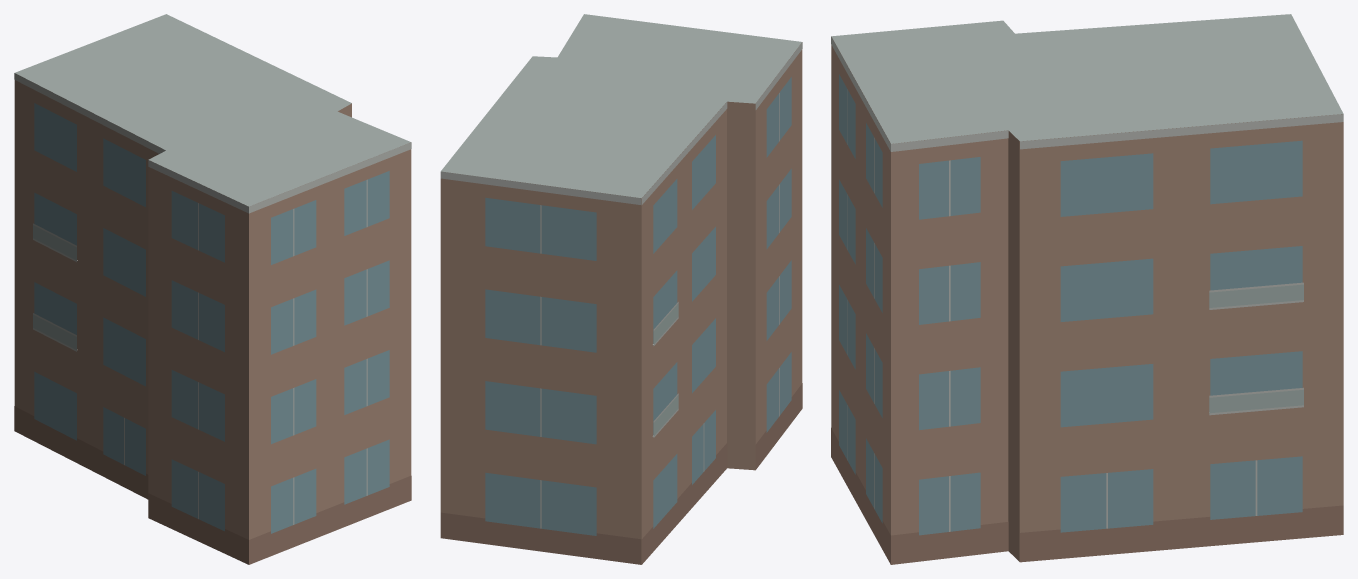
The model's file is survey-upis-32614928.glb.
3 views of the same model, side by side, from view 1: azimuth 30°, elevation 25°; view 2: azimuth 150°, elevation 25°; view 3: azimuth 270°, elevation 25° (orthographic). The views are drawn at different scales.
Parts seen in each view (by area): view 1: survey-upis-32614928.tmp; view 2: survey-upis-32614928.tmp; view 3: survey-upis-32614928.tmp.
Part boxes in pixels (box(x1,y1,x2,y2)): survey-upis-32614928.tmp: box(14, 14, 411, 564); survey-upis-32614928.tmp: box(440, 14, 802, 564); survey-upis-32614928.tmp: box(831, 14, 1343, 564).
Size of the model in its own units: 8.42 by 12.7 by 14.02.
